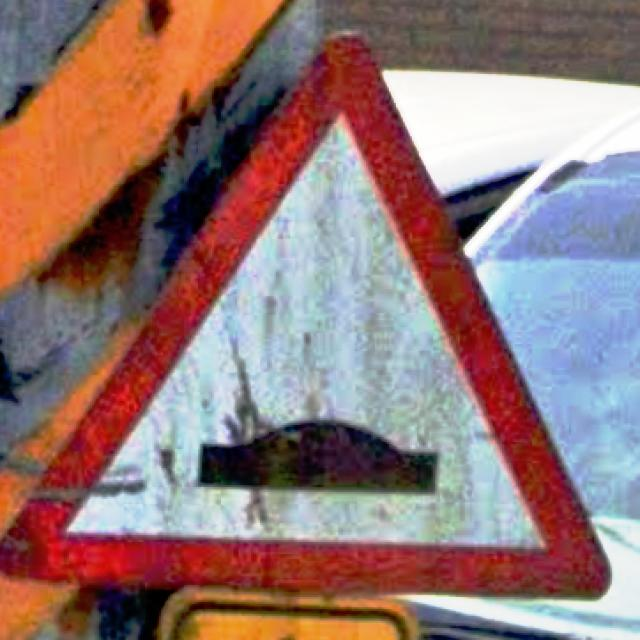hump: (0, 34, 612, 600)
